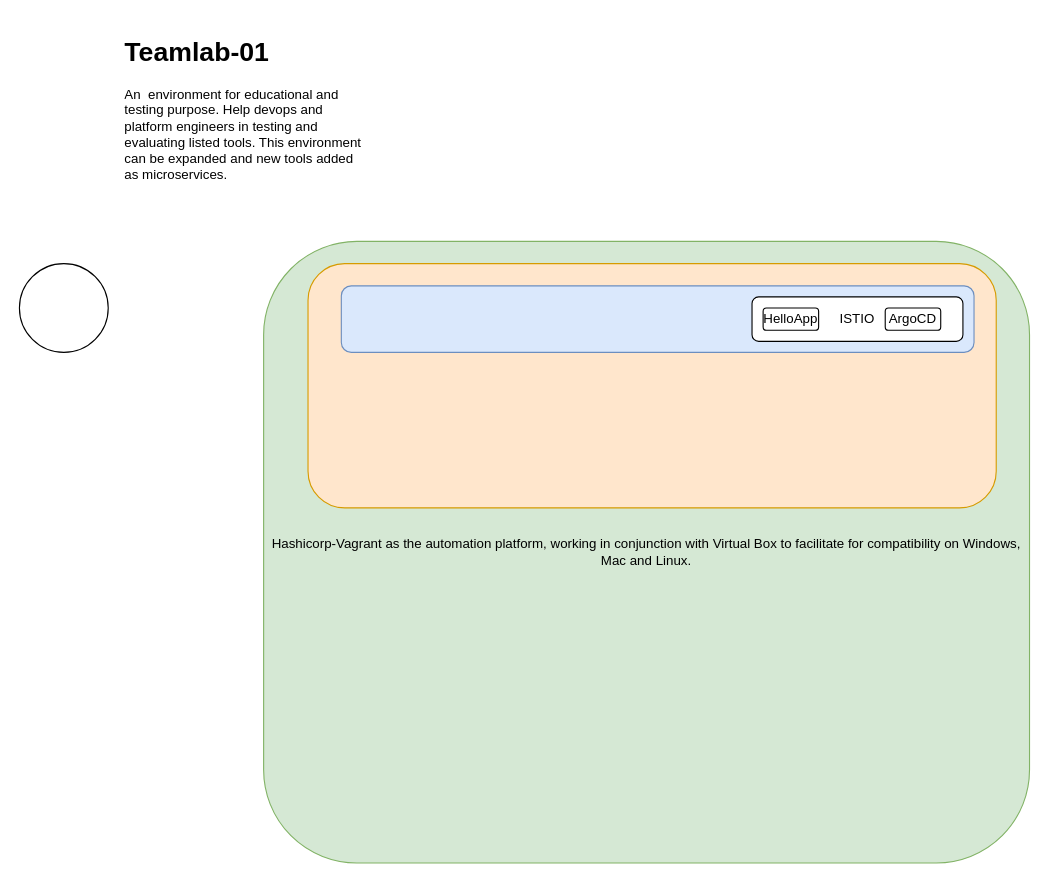
Image size: 1049x882. Some labels were removed from this diagram. Each missing label, with the box of its shape:
Minikube,(representing K8S): (340, 285, 974, 352)
Ubuntu:20.04 VM : Representing K8S, single controller/worker node.: (307, 263, 996, 508)
